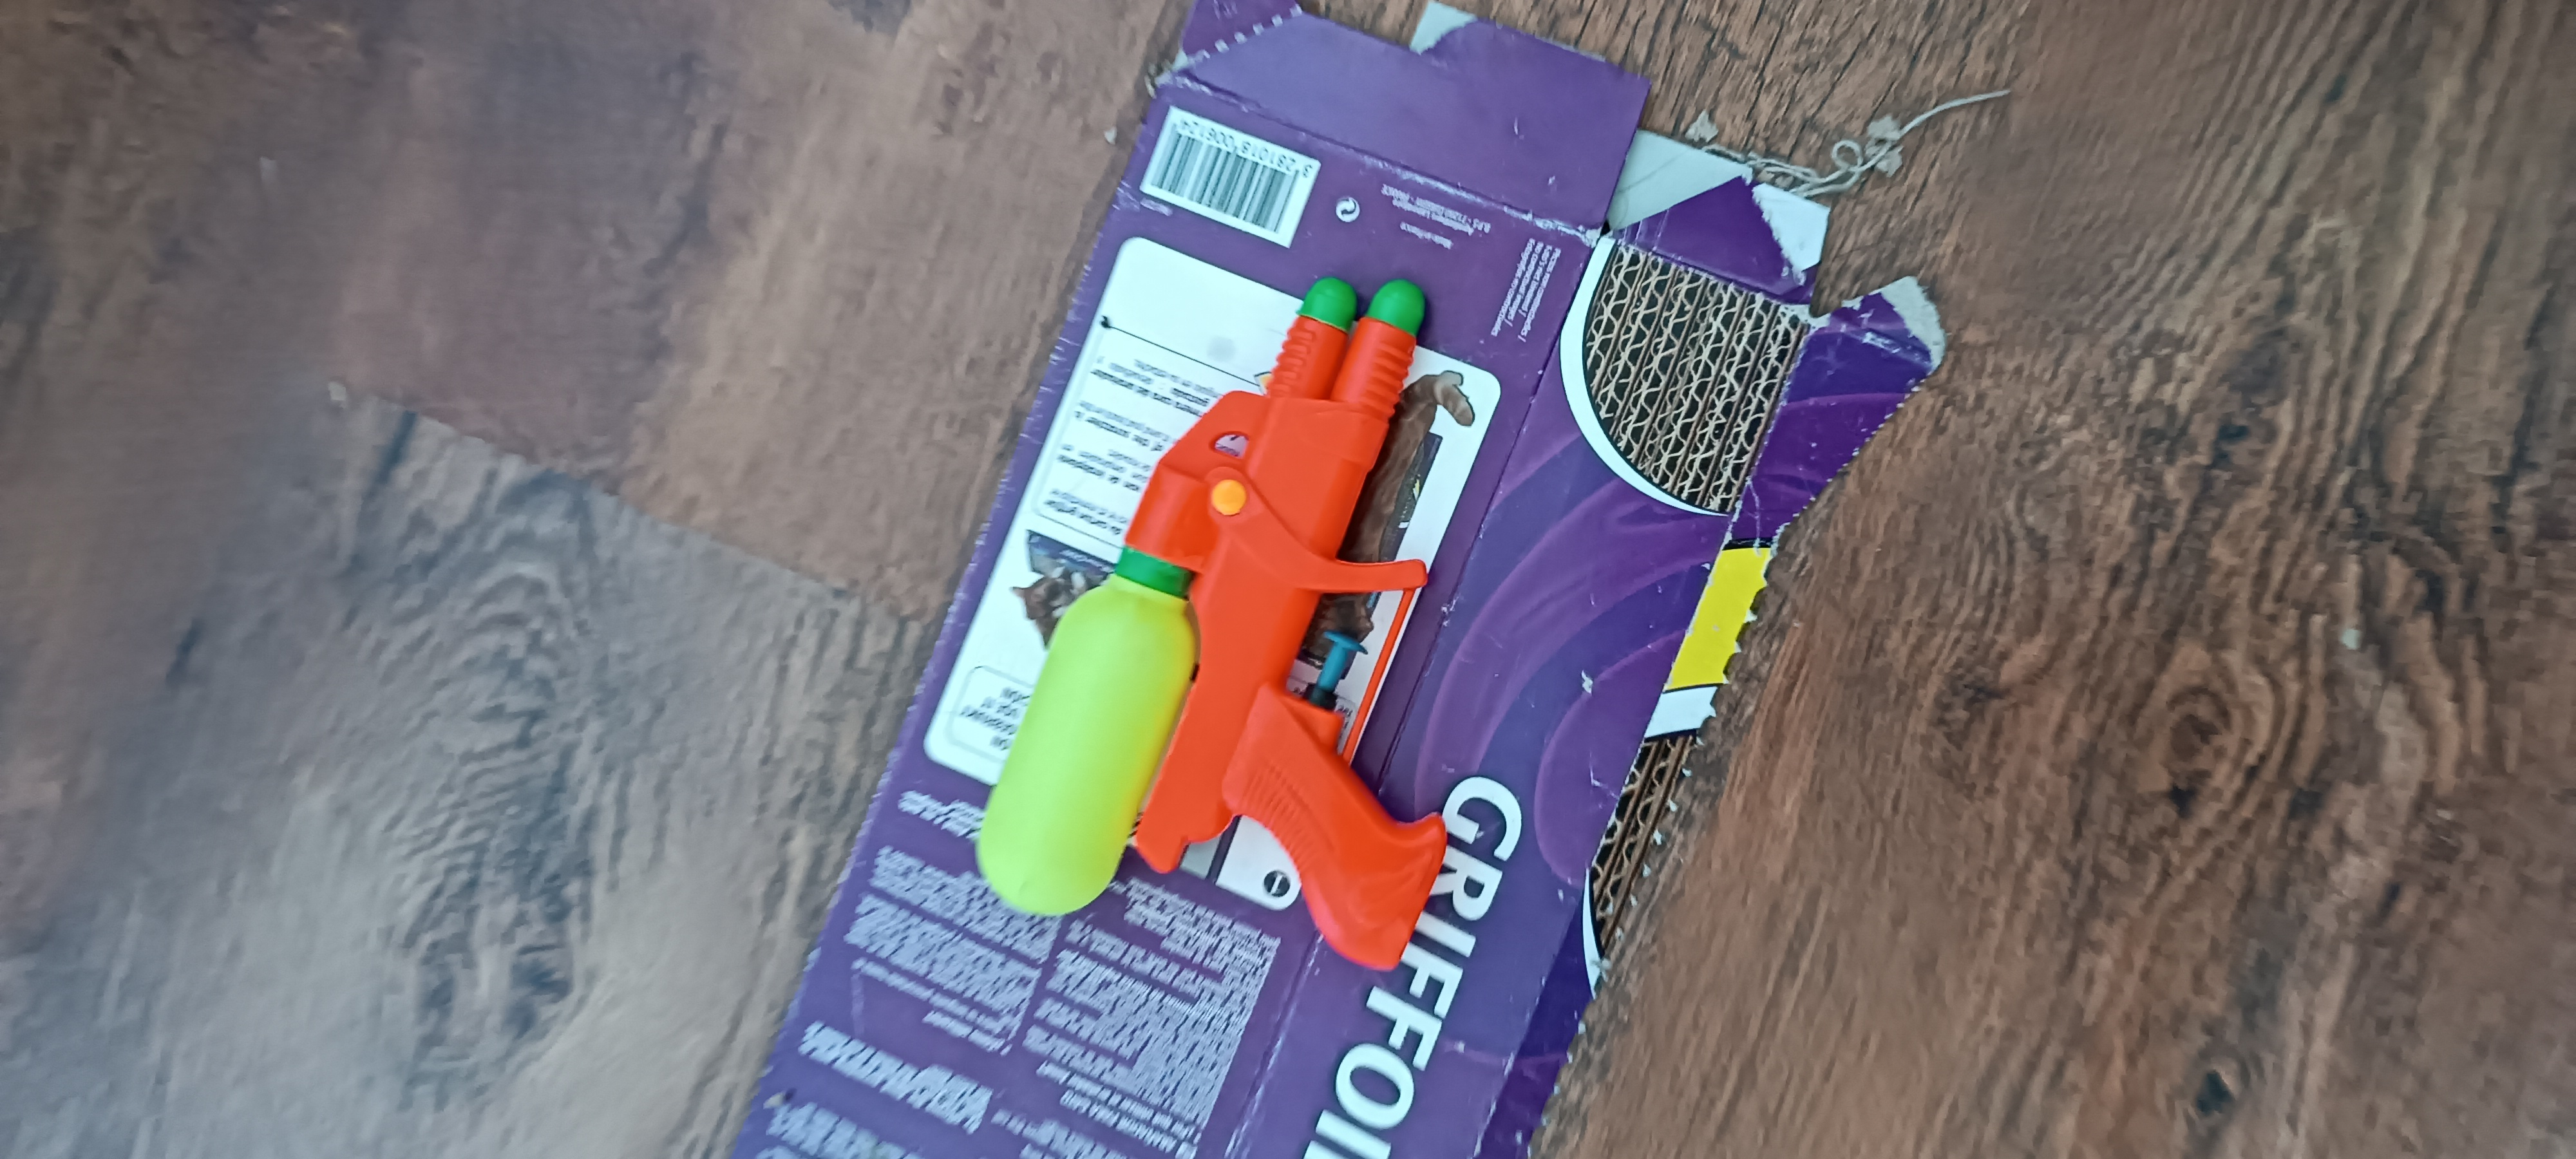Water Gun: (977, 274, 1449, 973)
